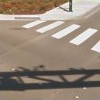crosswalk: (21, 20, 100, 53)
